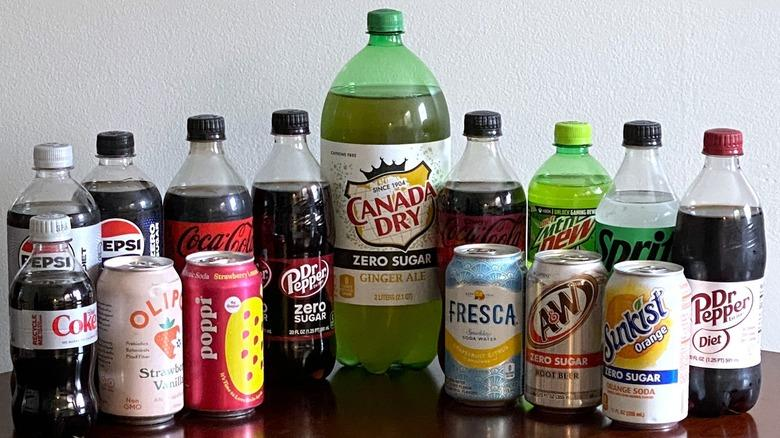can: (89, 256, 183, 437), (604, 261, 690, 431), (180, 251, 263, 416), (524, 249, 607, 414), (443, 244, 526, 405)
